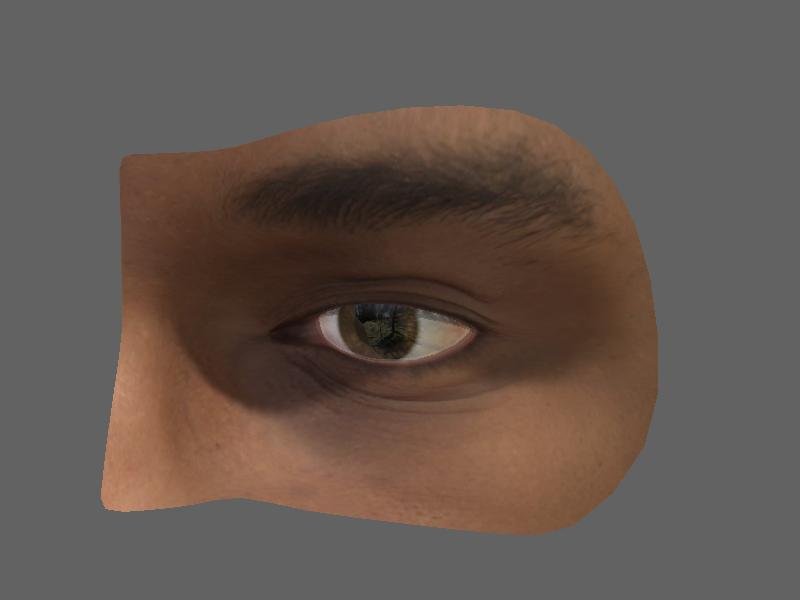iris: (334, 303, 420, 359)
